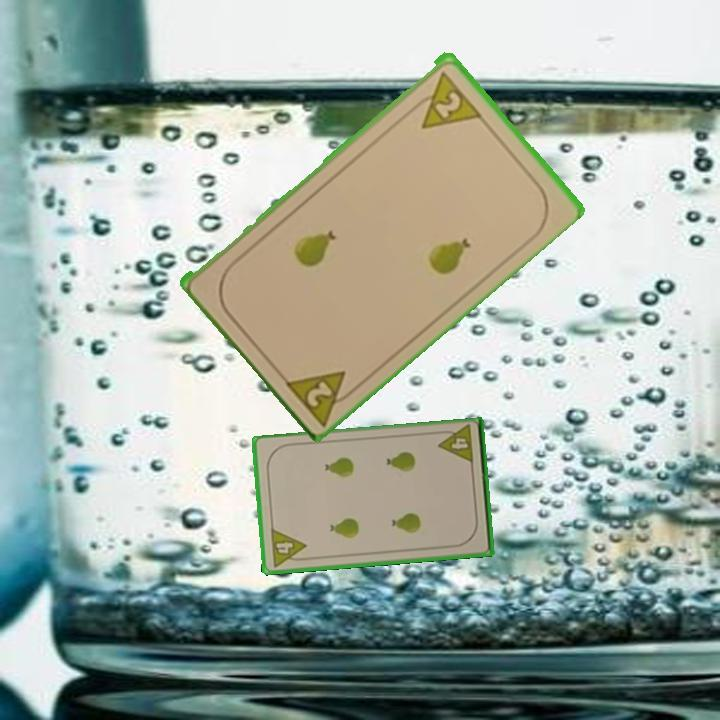2p: (279, 365, 363, 427), (407, 67, 483, 132)
4p: (267, 525, 310, 570), (434, 423, 476, 467)
